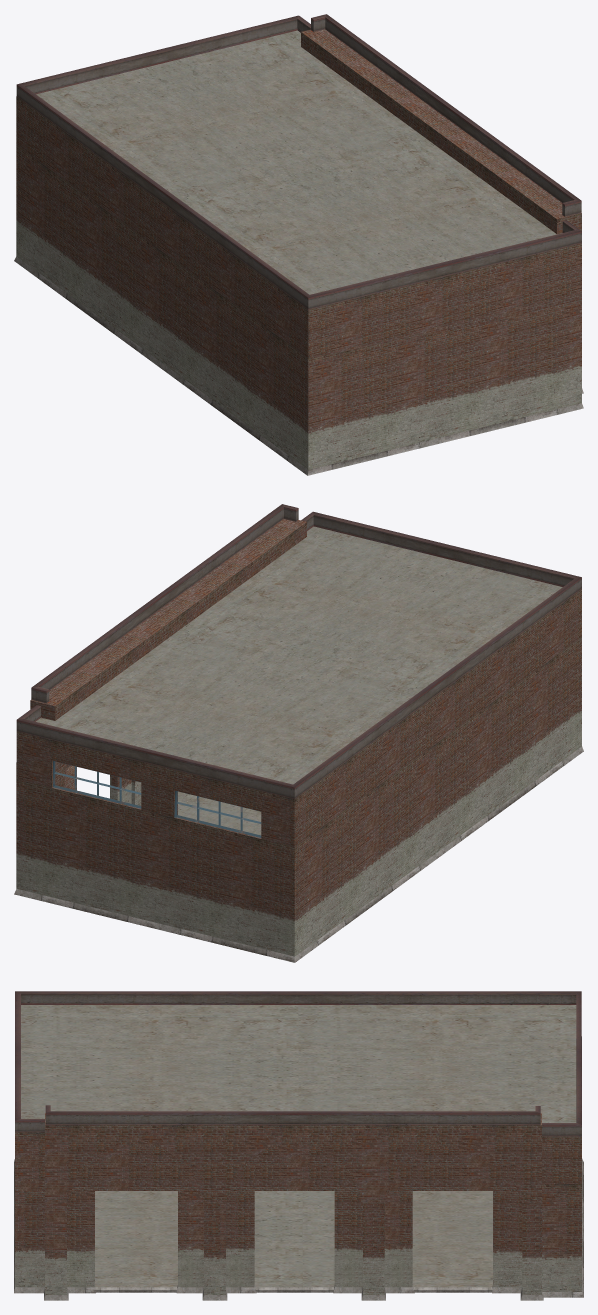
Rendered from Building_Factoryhouse01_2048_lod1.glb.
3 renders of one model, top to bottom at view 1: azimuth 30°, elevation 25°; view 2: azimuth 150°, elevation 25°; view 3: azimuth 270°, elevation 25°, orthographic. The views are drawn at different scales.
Parts seen in each view (by area): view 1: xiutz_factoryhouse_01_lod1; view 2: xiutz_factoryhouse_01_lod1; view 3: xiutz_factoryhouse_01_lod1.
Boxes of the visible parts, x1,y1,x2,y2 form: xiutz_factoryhouse_01_lod1: (14, 14, 583, 475); xiutz_factoryhouse_01_lod1: (14, 504, 583, 962); xiutz_factoryhouse_01_lod1: (14, 991, 583, 1300).
Size of the model in its own units: 20.45 by 12.88 by 35.65.
1 material, 1 textured.
